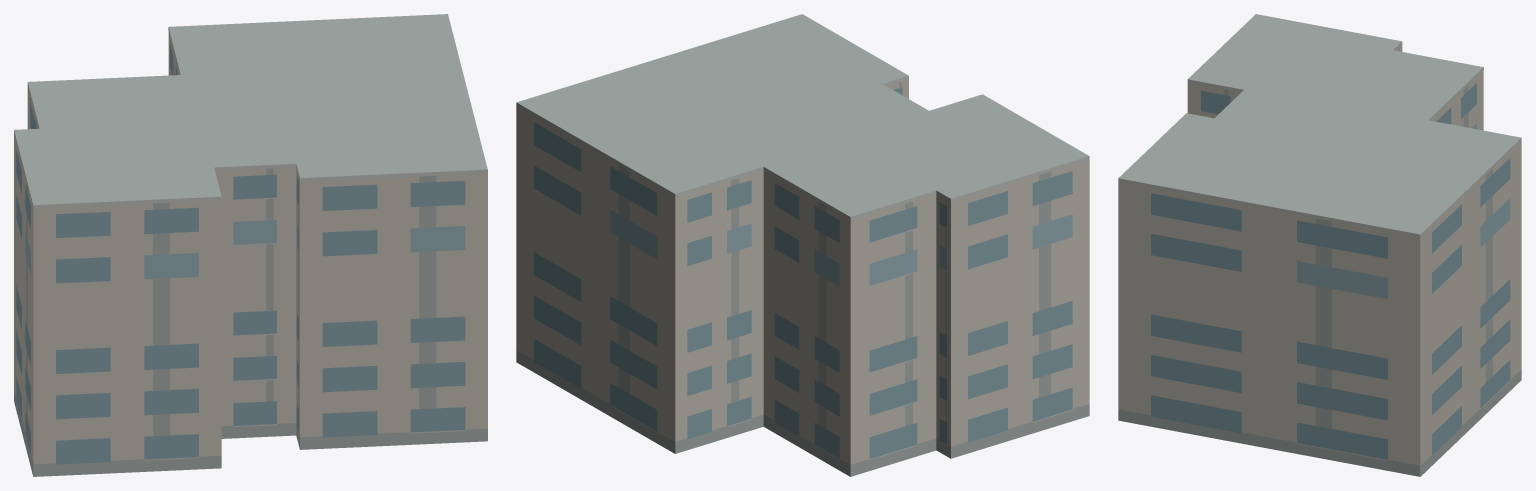
Rendered from residential-eae9575a-450d-41ac-88c7-a451644c288e.glb.
3 renders of one model, left to right at view 1: azimuth 30°, elevation 25°; view 2: azimuth 150°, elevation 25°; view 3: azimuth 270°, elevation 25°, orthographic. The views are drawn at different scales.
Parts seen in each view (by area): view 1: residential-eae9575a-450d-41ac-88c7-a451644c288e.tmp; view 2: residential-eae9575a-450d-41ac-88c7-a451644c288e.tmp; view 3: residential-eae9575a-450d-41ac-88c7-a451644c288e.tmp.
Boxes of the visible parts, x1,y1,x2,y2 form: residential-eae9575a-450d-41ac-88c7-a451644c288e.tmp: [14, 14, 487, 476]; residential-eae9575a-450d-41ac-88c7-a451644c288e.tmp: [516, 14, 1089, 476]; residential-eae9575a-450d-41ac-88c7-a451644c288e.tmp: [1118, 14, 1521, 476].
Size of the model in its own units: 35.15 by 18 by 27.16.
